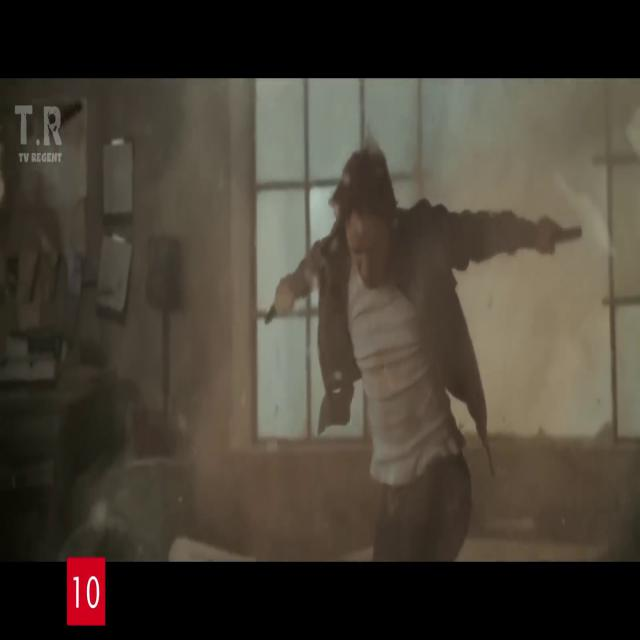handgun: (523, 204, 595, 284)
